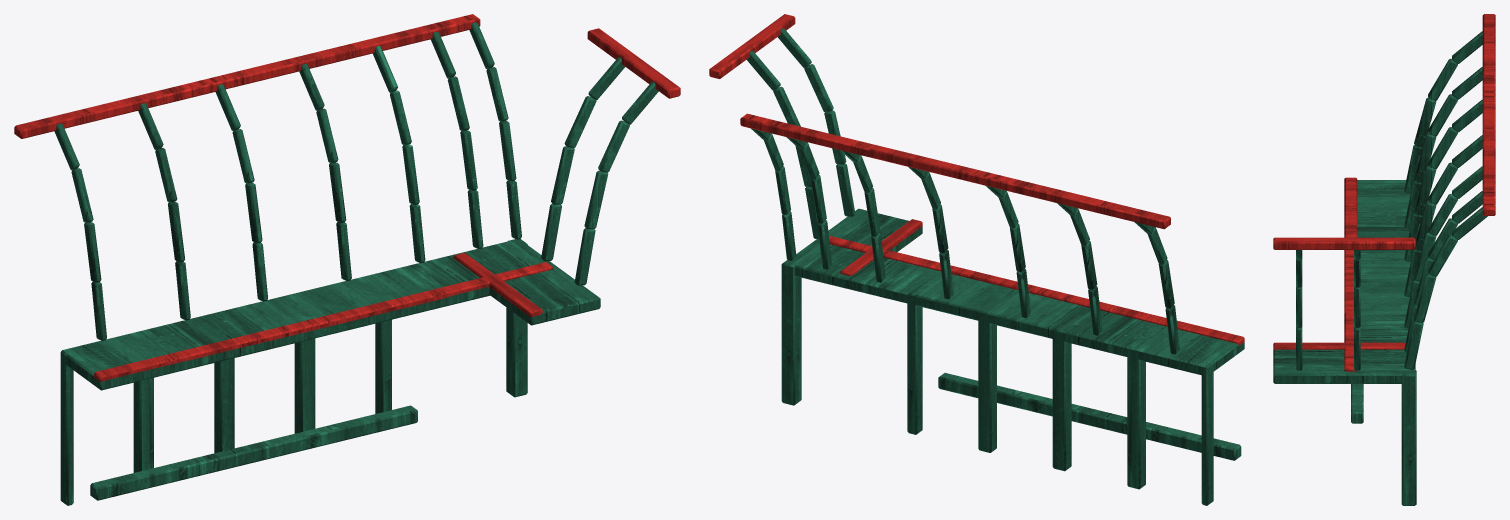
Rendered from meirenkao.glb.
The picture shows the model from 3 angles, left to right: view 1: azimuth 30°, elevation 25°; view 2: azimuth 150°, elevation 25°; view 3: azimuth 270°, elevation 25°; orthographic projection. The views are drawn at different scales.
Visible parts, largest first — view 1: meiren_straight, meiren_corner, meiren_straight_red, meiren_corner_red; view 2: meiren_straight, meiren_corner, meiren_straight_red, meiren_corner_red; view 3: meiren_corner, meiren_straight, meiren_corner_red, meiren_straight_red.
Boxes of the visible parts, x1,y1,x2,y2 form: meiren_straight: (54, 64, 417, 505); meiren_corner: (373, 22, 658, 411); meiren_straight_red: (14, 48, 421, 381); meiren_corner_red: (334, 14, 680, 316); meiren_straight: (908, 167, 1244, 505); meiren_corner: (746, 28, 941, 434); meiren_straight_red: (869, 144, 1244, 345); meiren_corner_red: (709, 14, 940, 275); meiren_corner: (1273, 166, 1487, 505); meiren_straight: (1351, 31, 1482, 423); meiren_corner_red: (1273, 149, 1495, 371); meiren_straight_red: (1344, 14, 1495, 313).
Size of the model in its own units: 1.68 by 1.02 by 0.688.
2 materials, 2 textured.
